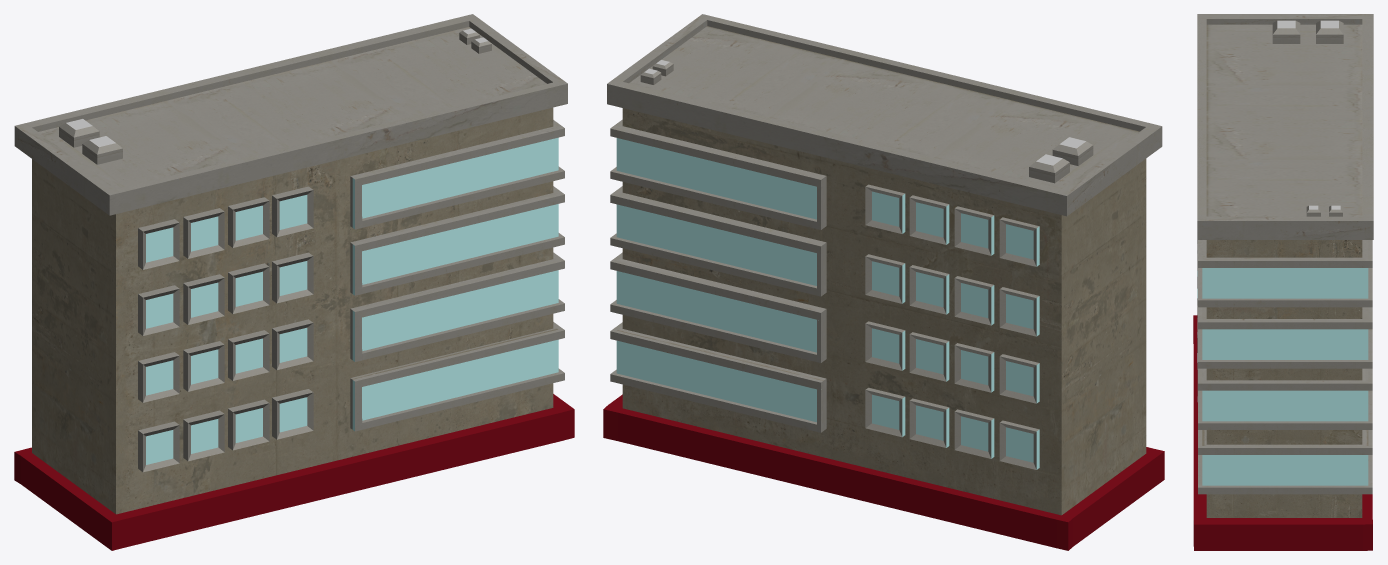
The model's file is Hotel2.fbx.
3 views of the same model, side by side, from view 1: azimuth 30°, elevation 25°; view 2: azimuth 150°, elevation 25°; view 3: azimuth 270°, elevation 25° (orthographic). The views are drawn at different scales.
Visible parts, largest first — view 1: Cube.001; view 2: Cube.001; view 3: Cube.001.
Boxes of the visible parts, x1,y1,x2,y2 form: Cube.001: (14,14,574,550); Cube.001: (603,14,1164,550); Cube.001: (1193,14,1373,550).
Size of the model in its own units: 154 by 115 by 55.87.
